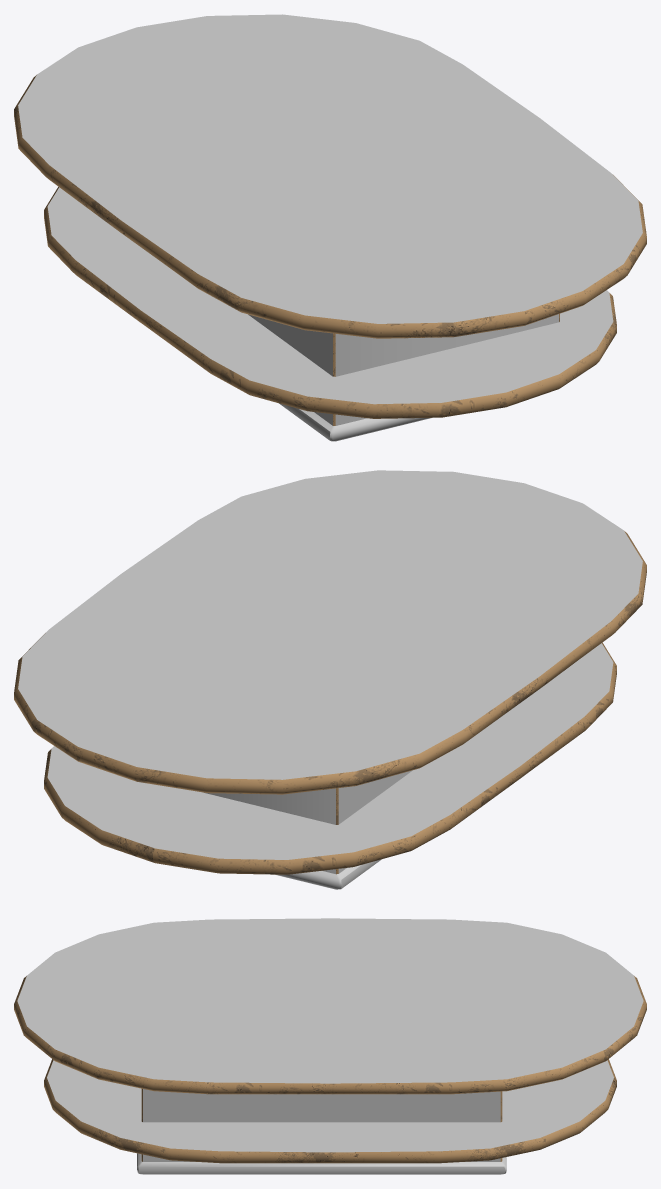
The model's file is Table_Low.FBX.
3 views of the same model, one above another, from view 1: azimuth 30°, elevation 25°; view 2: azimuth 150°, elevation 25°; view 3: azimuth 270°, elevation 25° (orthographic). The views are drawn at different scales.
Parts seen in each view (by area): view 1: Table_Low; view 2: Table_Low; view 3: Table_Low.
Part boxes in pixels (x1,y1,x2,y2): Table_Low: [14, 14, 646, 441]; Table_Low: [14, 470, 646, 889]; Table_Low: [14, 918, 646, 1174].
Size of the model in its own units: 145 by 51.79 by 231.
